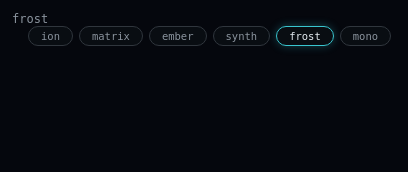
默认 frost 且切换持久化到 localStorage
Check: the text with test id "probe" reads "frost", box [12,12,48,26]
Click the button "matrix".
click(111, 36)  # box [79,26,143,46]
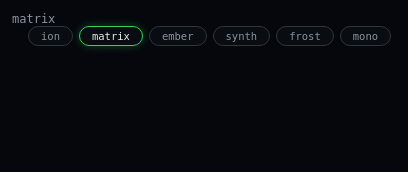
Check: the text with test id "probe" reads "matrix", box [12,12,55,26]
